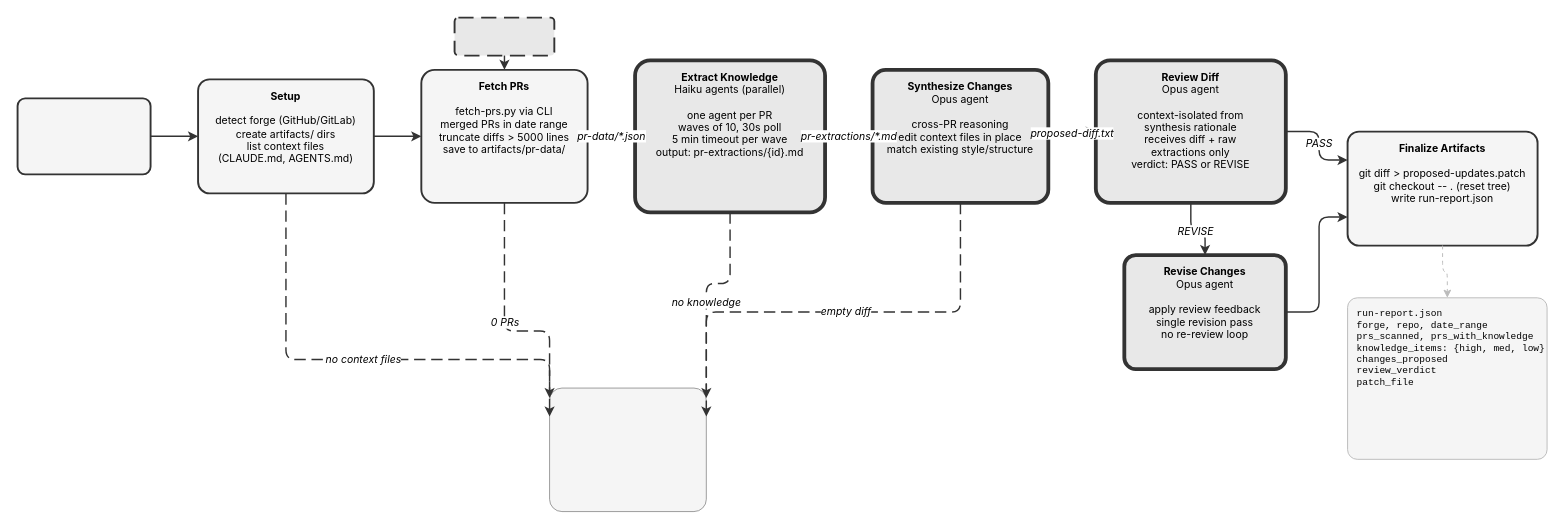
Some shapes in this 1564 by 528 pixel diagram are drawn without their labels. The centre of each missing label's shape, as x and y in pixels:
"/knowledge-repo --days N (default: 7)" goes at (x=83, y=136).
"Early Exit no context files no merged PRs no knowledge items no changes proposed" goes at (x=627, y=449).
"Forge CLI gh / glab" goes at (x=504, y=36).
